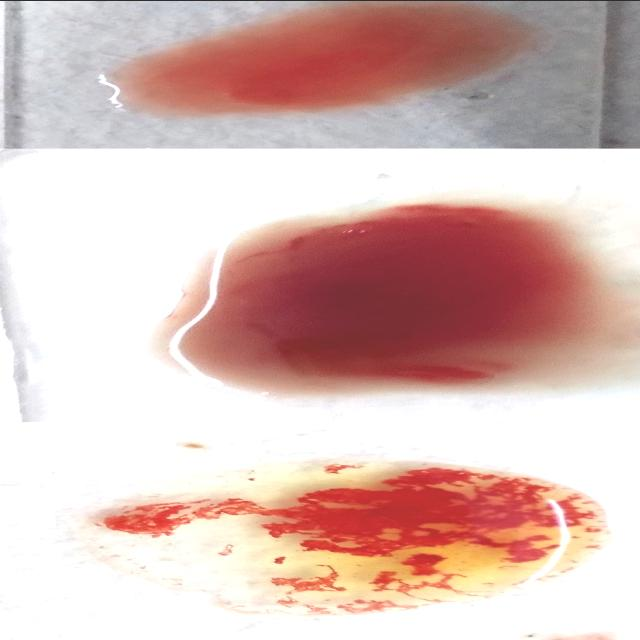B: (74, 458, 618, 612)
